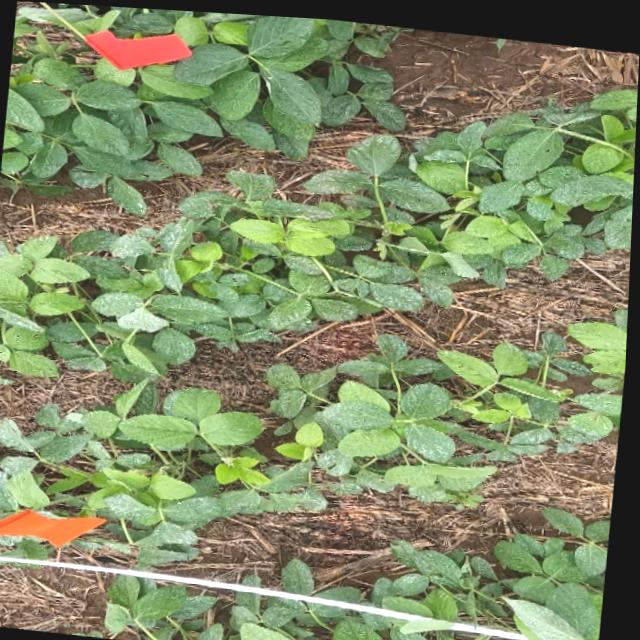soy_plant: (0, 83, 638, 377), (0, 327, 626, 563), (2, 6, 398, 210), (110, 502, 615, 640), (570, 314, 630, 366)
